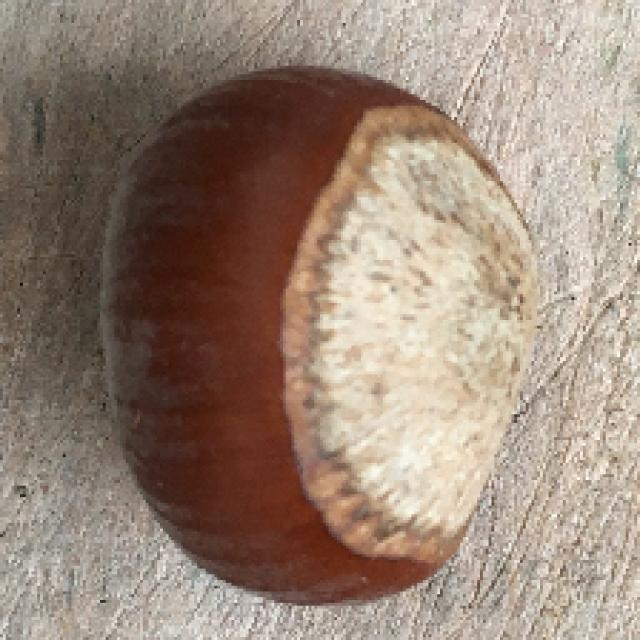QualityHazelnut: (103, 62, 543, 612)
